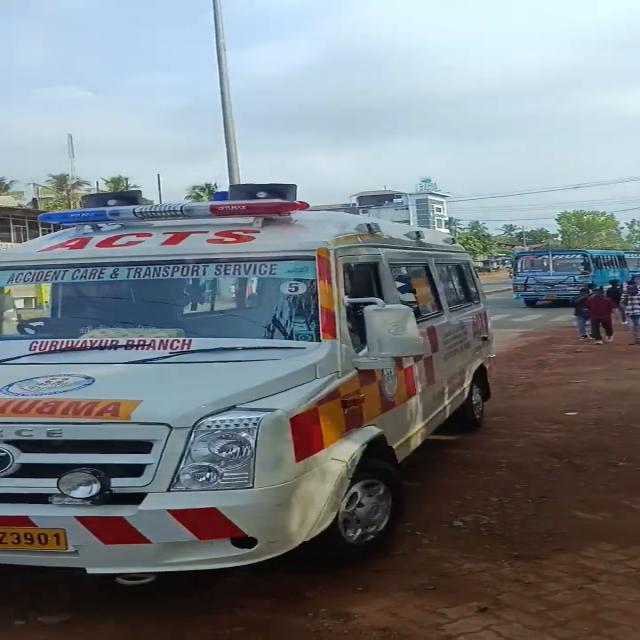ambulance: (0, 176, 508, 604)
